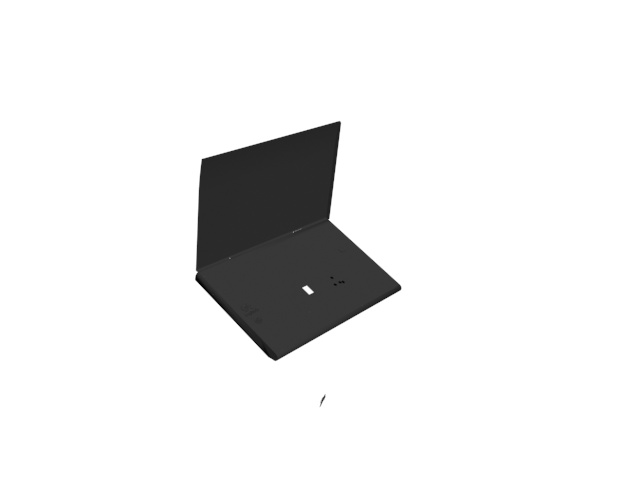laptop_computer: (193, 121, 408, 408)
